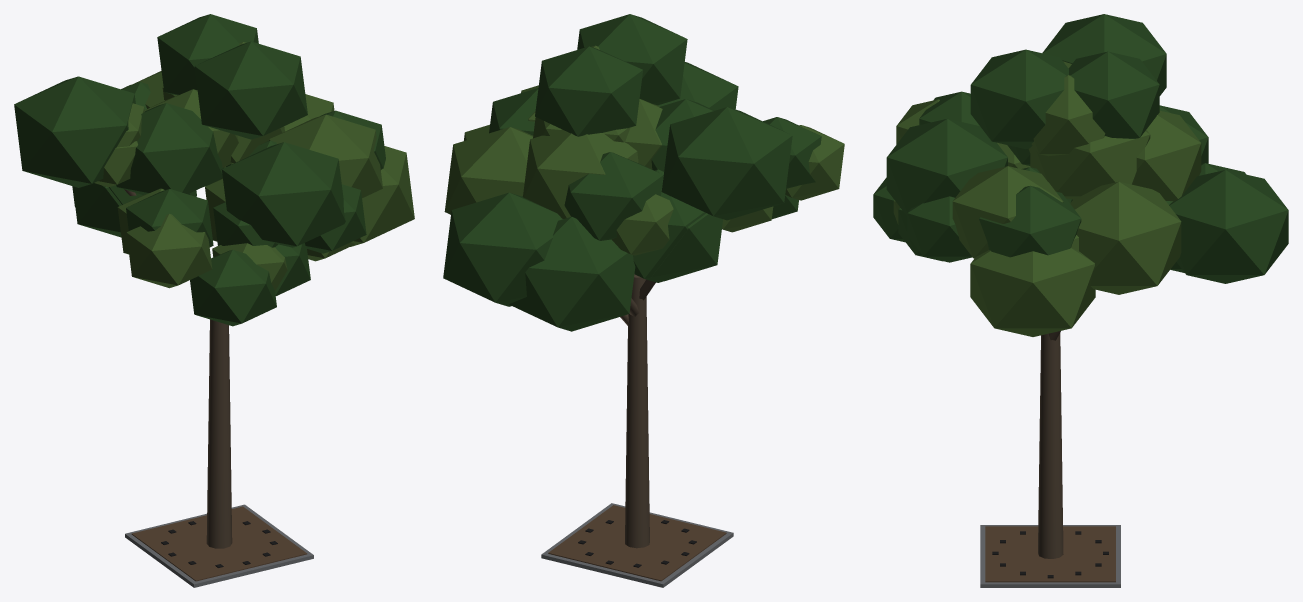
The model's file is agac.glb.
The picture shows the model from 3 angles, left to right: view 1: azimuth 30°, elevation 25°; view 2: azimuth 150°, elevation 25°; view 3: azimuth 270°, elevation 25°; orthographic projection.
Visible parts, largest first — view 1: Agac; view 2: Agac; view 3: Agac.
Part boxes in pixels (bbox=[...]): Agac: bbox=[14, 14, 414, 587]; Agac: bbox=[443, 14, 844, 587]; Agac: bbox=[873, 14, 1288, 587].
Bounding box in the file's own units: 4.08 × 5.7 × 4.14.
